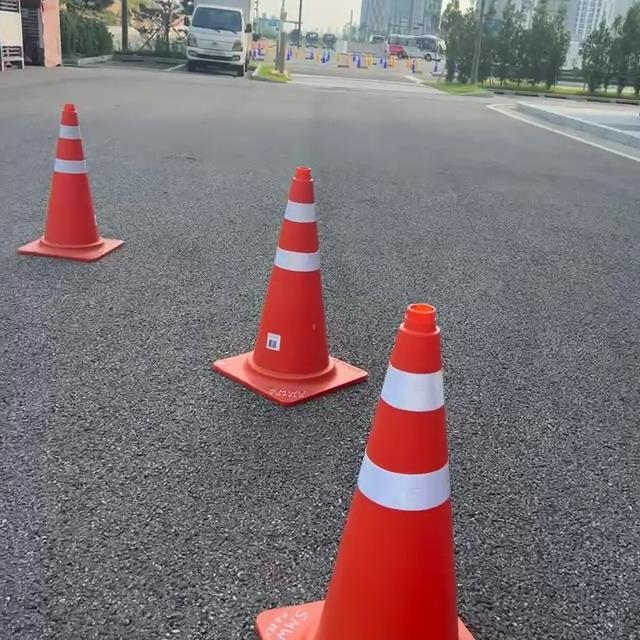fallen_object: (192, 103, 390, 430), (303, 283, 478, 640), (19, 73, 113, 241)
